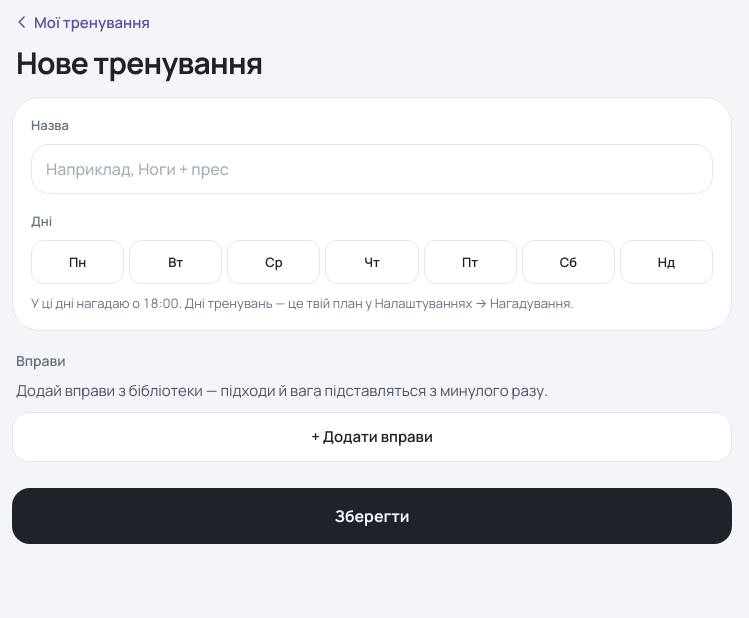
Test: builder › validates the name and the exercises on save
Click the button "Зберегти".
click(372, 516)  # box [12,488,732,544]
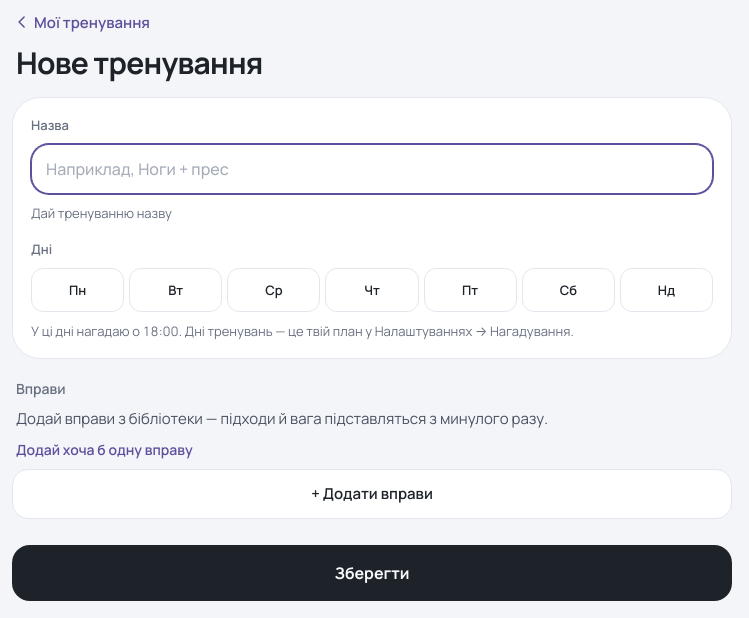
Check: the text "Дай тренуванню назву" is shown, box [31,204,172,222]
Check: the message reads "Додай хоча б одну вправу", box [16,440,193,459]
